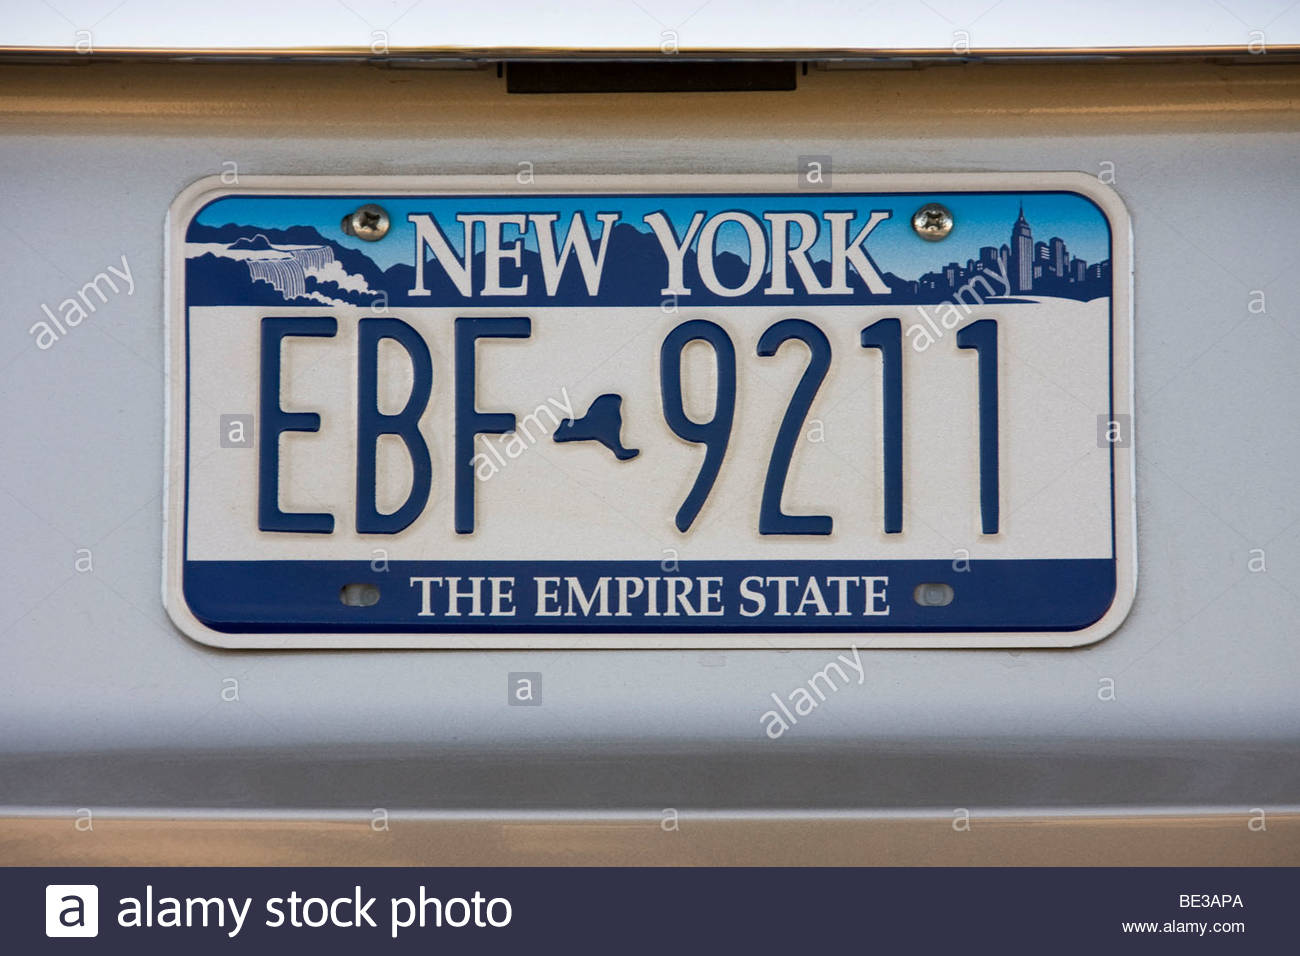license plate: (171, 187, 1128, 641)
